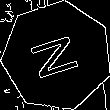N_E: (26, 29, 87, 83)
